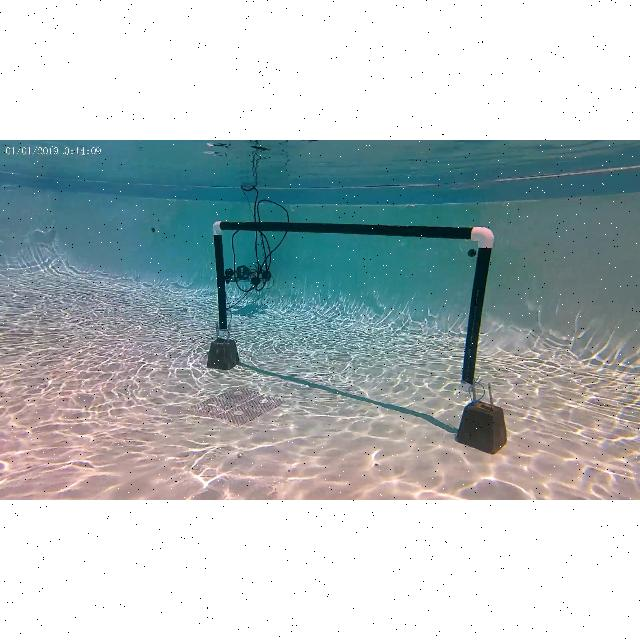prequal gate: (212, 221, 494, 393)
prequal gate leg l: (212, 220, 234, 332)
prequal gate leg r: (457, 221, 495, 381)
